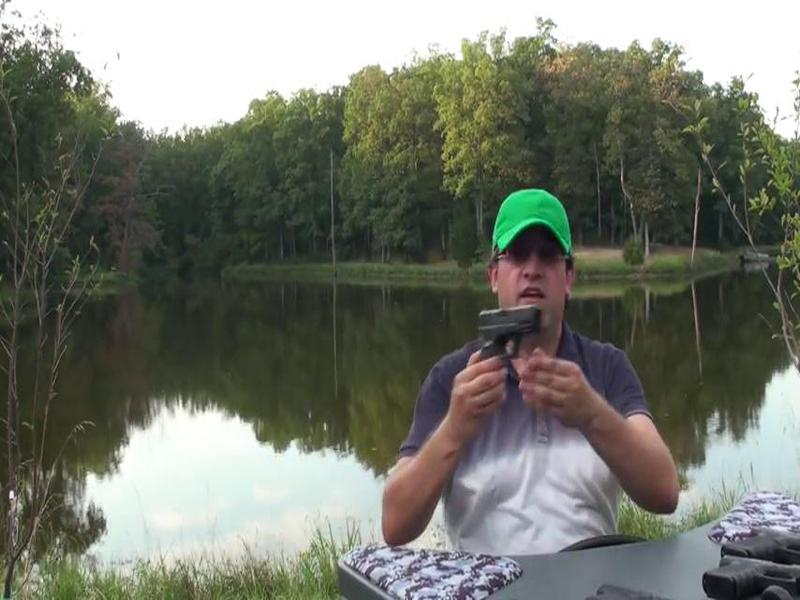Pistola: (436, 284, 549, 409)
